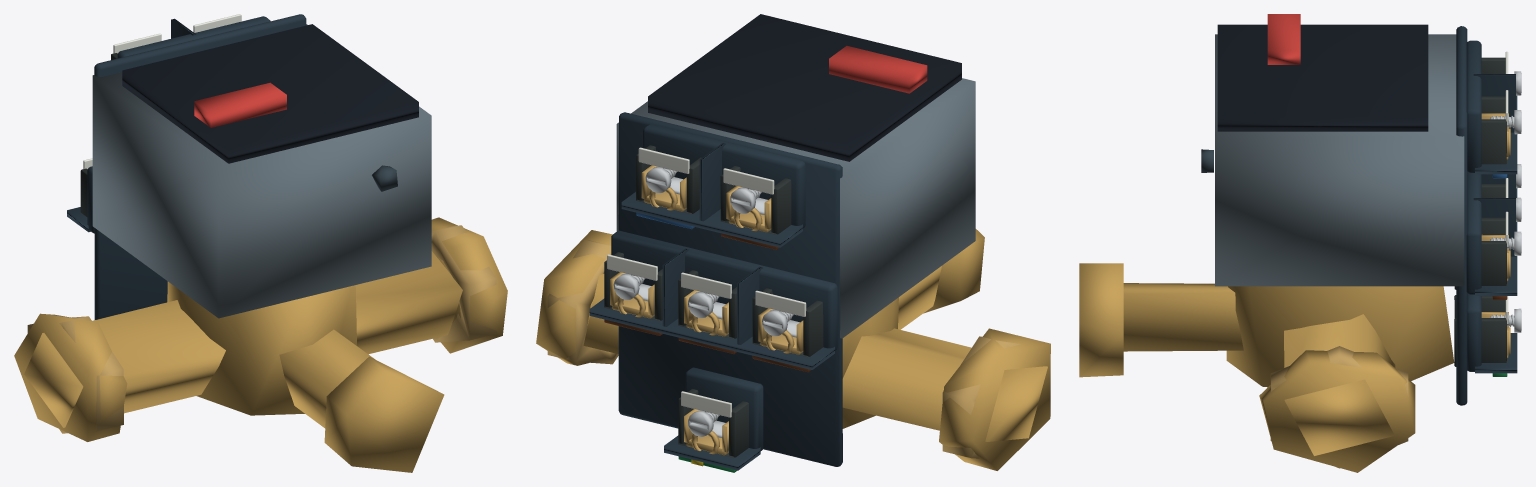
Rendered from valve3_three-port.low.glb.
3 views of the same model, side by side, from view 1: azimuth 30°, elevation 25°; view 2: azimuth 150°, elevation 25°; view 3: azimuth 270°, elevation 25° (orthographic). The views are drawn at different scales.
Visible parts, largest first — view 1: part:actuator, part:body · Original df732090, part:terminals · Original a463fd81, detail:valve-end-switch · Detail machined brass, motion:valve-pointer; view 2: part:terminals · Original a463fd81, part:actuator, part:body · Original df732090, detail:valve-end-switch · Detail machined brass, motion:valve-pointer, detail:terminal-clamp:L · Detail moulded engineering polymer, detail:terminal-clamp:CH · Detail moulded engineering polyme, detail:terminal-clamp:PE · Detail moulded engineering polyme, detail:terminal-clamp:N · Detail moulded engineering polymer, detail:terminal-clamp:CH · Detail machined brass, detail:terminal-clamp:L · Detail machined brass, detail:terminal-clamp:N · Detail machined brass (+17 smaller); view 3: part:actuator, part:body · Original df732090, part:terminals · Original a463fd81, detail:terminal-clamp:PE · Detail moulded engineering polyme, motion:valve-pointer, detail:terminal-clamp:N · Detail moulded engineering polymer, detail:terminal-clamp:END · Detail moulded engineering polym, detail:valve-end-switch · Detail machined brass.
Part boxes in pixels (x1,y1,x2,y2): part:actuator: (92,24,431,318); part:body · Original df732090: (14,217,507,472); part:terminals · Original a463fd81: (67,14,306,319); detail:valve-end-switch · Detail machined brass: (27,225,496,433); motion:valve-pointer: (194,82,286,127); part:terminals · Original a463fd81: (589,112,842,470); part:actuator: (616,14,975,338); part:body · Original df732090: (536,229,1050,470); detail:valve-end-switch · Detail machined brass: (547,240,1020,458); motion:valve-pointer: (829,46,927,93); detail:terminal-clamp:L · Detail moulded engineering polymer: (720,166,791,234); detail:terminal-clamp:CH · Detail moulded engineering polyme: (752,288,823,357); detail:terminal-clamp:PE · Detail moulded engineering polyme: (678,389,748,457); detail:terminal-clamp:N · Detail moulded engineering polymer: (636,145,701,214); detail:terminal-clamp:CH · Detail machined brass: (758,308,803,354); detail:terminal-clamp:L · Detail machined brass: (726,186,771,232); detail:terminal-clamp:N · Detail machined brass: (641,165,686,211); part:actuator: (1215,24,1464,286); part:body · Original df732090: (1079,263,1454,472); part:terminals · Original a463fd81: (1456,26,1517,405); detail:terminal-clamp:PE · Detail moulded engineering polyme: (1454,295,1507,366); motion:valve-pointer: (1267,14,1300,64); detail:terminal-clamp:N · Detail moulded engineering polymer: (1481,96,1507,164); detail:terminal-clamp:END · Detail moulded engineering polym: (1454,217,1507,289); detail:valve-end-switch · Detail machined brass: (1270,346,1408,468).
Bounding box in the file's own units: 1.02 × 0.7423 × 0.9398.
